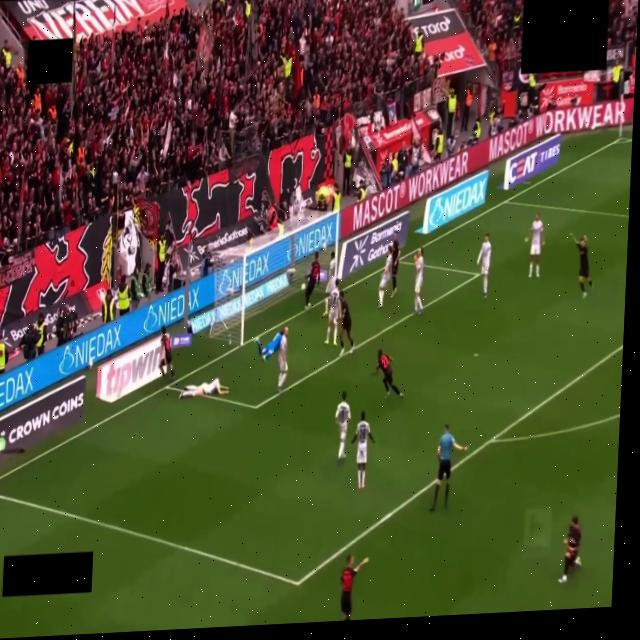ball: (301, 284, 306, 291)
player: (351, 411, 375, 489), (340, 555, 368, 620), (559, 516, 584, 584), (570, 234, 592, 298), (375, 349, 403, 398), (336, 391, 351, 464), (256, 328, 287, 360), (325, 280, 340, 346), (529, 213, 544, 277), (179, 379, 229, 398), (477, 234, 491, 297), (340, 292, 354, 355), (305, 253, 320, 310), (323, 252, 336, 316), (379, 245, 392, 308), (159, 327, 174, 377), (278, 328, 288, 392), (414, 249, 423, 314), (391, 233, 400, 298)
referee: (430, 424, 467, 511)
